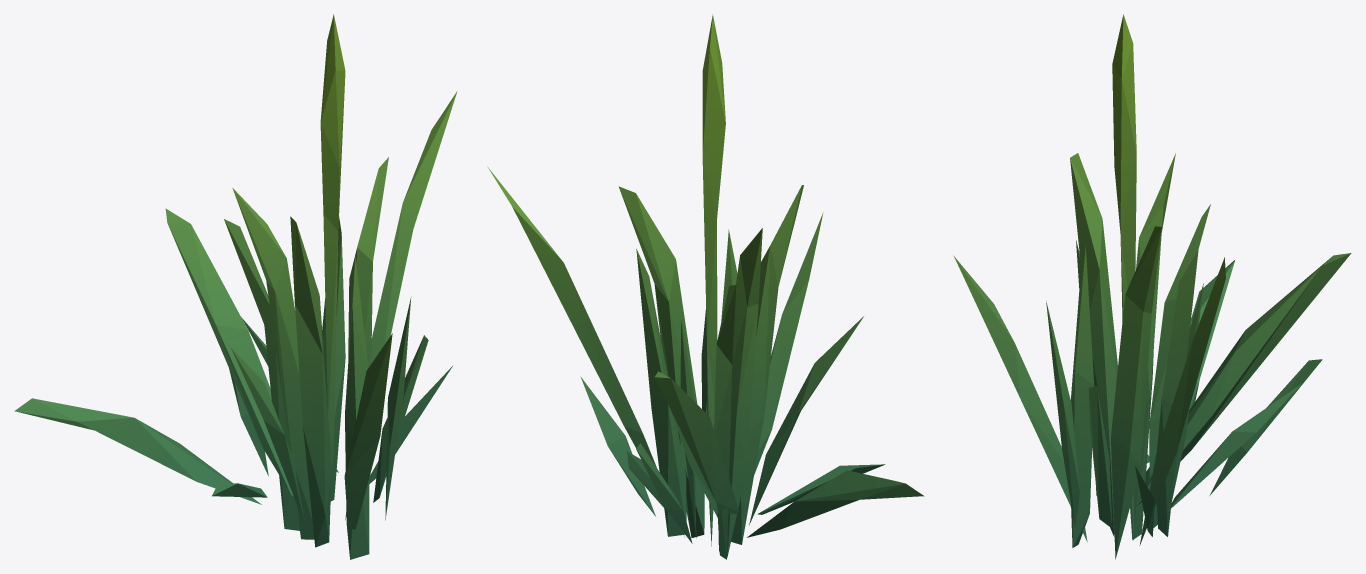
Rendered from ZLP_Grass_A_6.FBX.
3 renders of one model, left to right at view 1: azimuth 30°, elevation 25°; view 2: azimuth 150°, elevation 25°; view 3: azimuth 270°, elevation 25°, orthographic.
Visible parts, largest first — view 1: ZLP_Grass_A_6; view 2: ZLP_Grass_A_6; view 3: ZLP_Grass_A_6.
Part boxes in pixels (x1=…): ZLP_Grass_A_6: x1=14, y1=14, x2=457, y2=559; ZLP_Grass_A_6: x1=487, y1=14, x2=924, y2=559; ZLP_Grass_A_6: x1=953, y1=14, x2=1351, y2=559.
Bounding box in the file's own units: 94.66 × 109 × 73.73.
